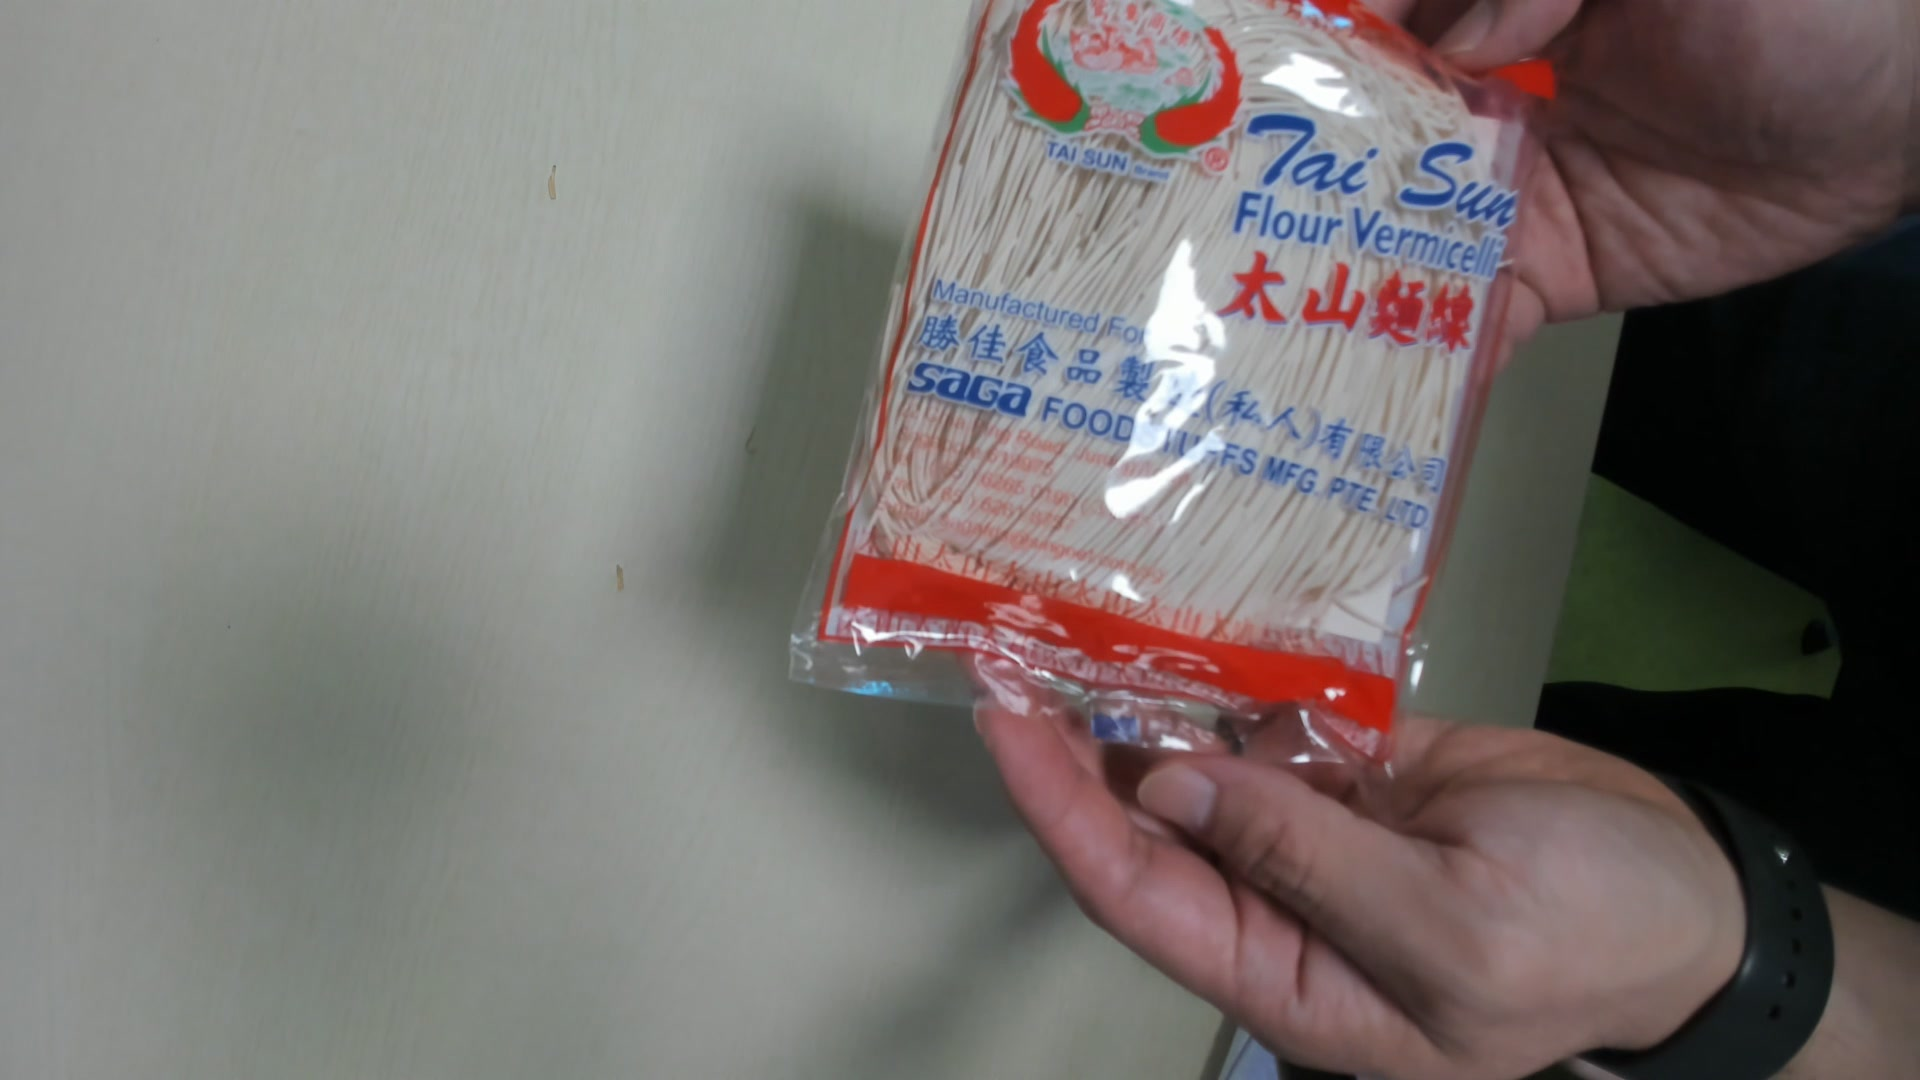BeeHoonVermicelli_100-199g_Halal_NonHealthy: (791, 1, 1552, 746)
